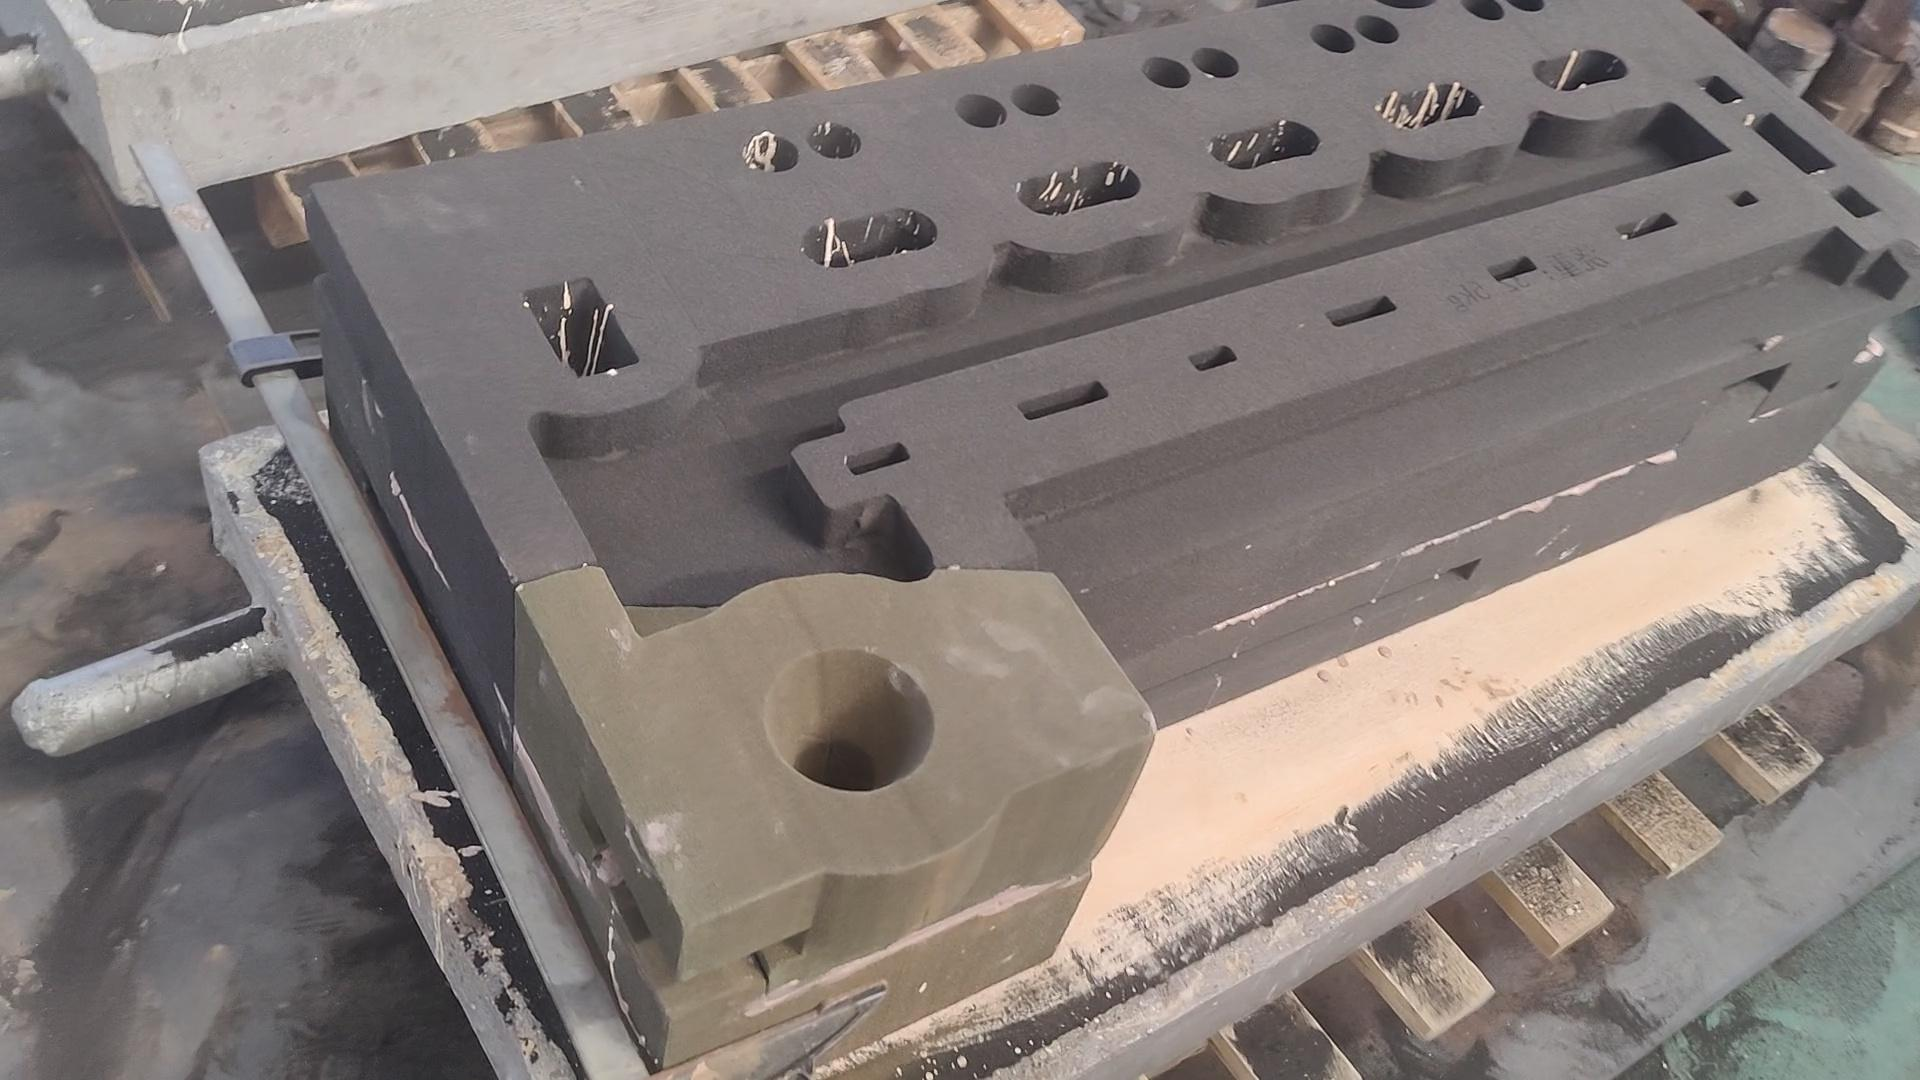pouring hole: (764, 646, 936, 793)
